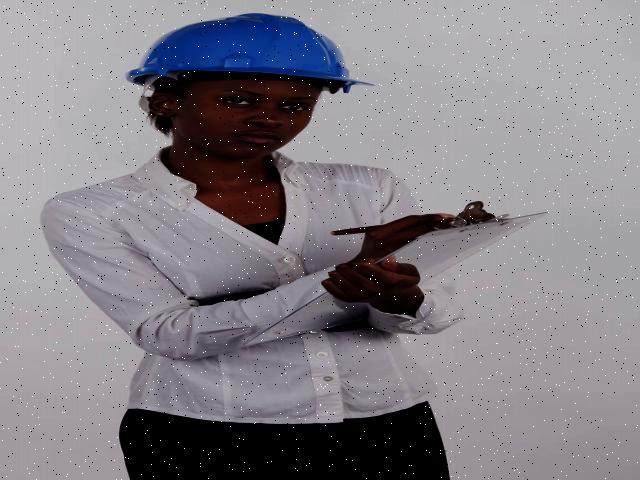Helmet: (120, 7, 375, 105)
